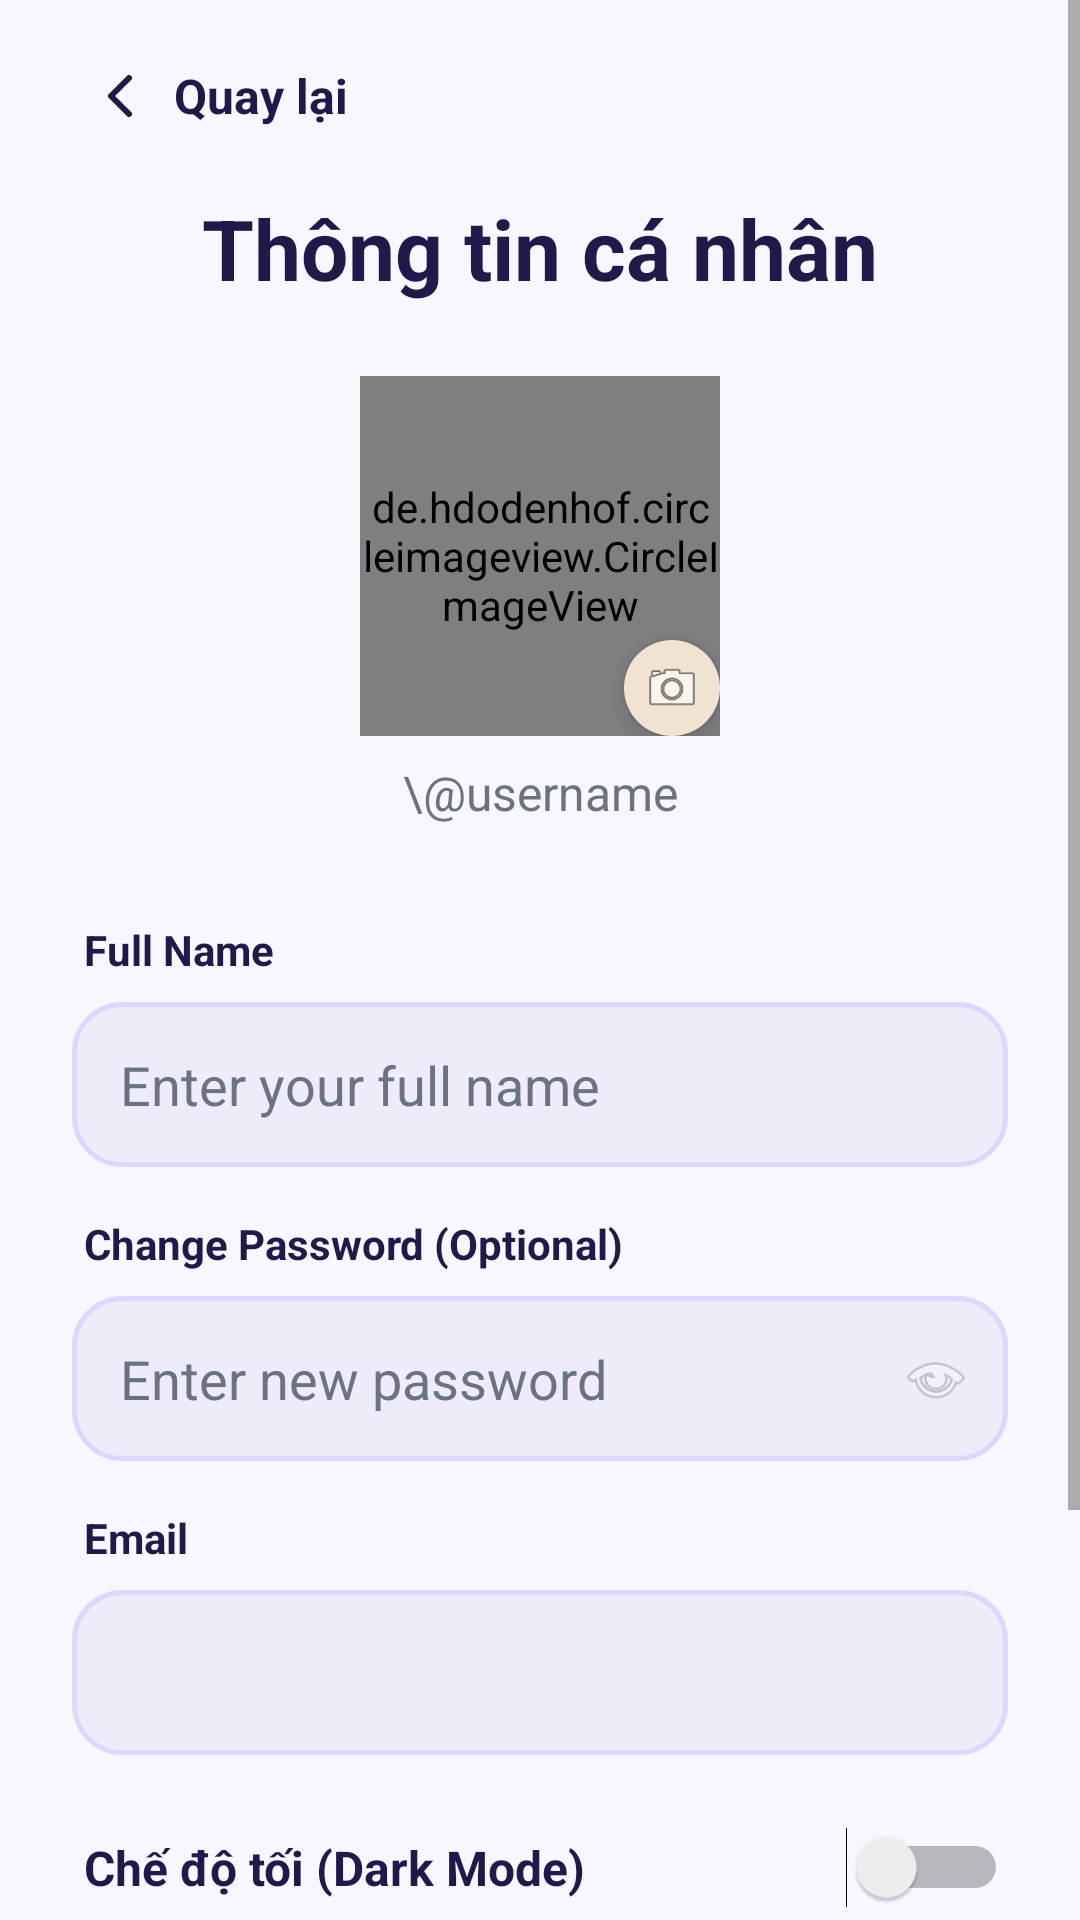

Point at icon controls on the screen. Image size 1080px x 1920px, points as point (x, y).
back: point (120, 96)
camera: point (672, 688)
